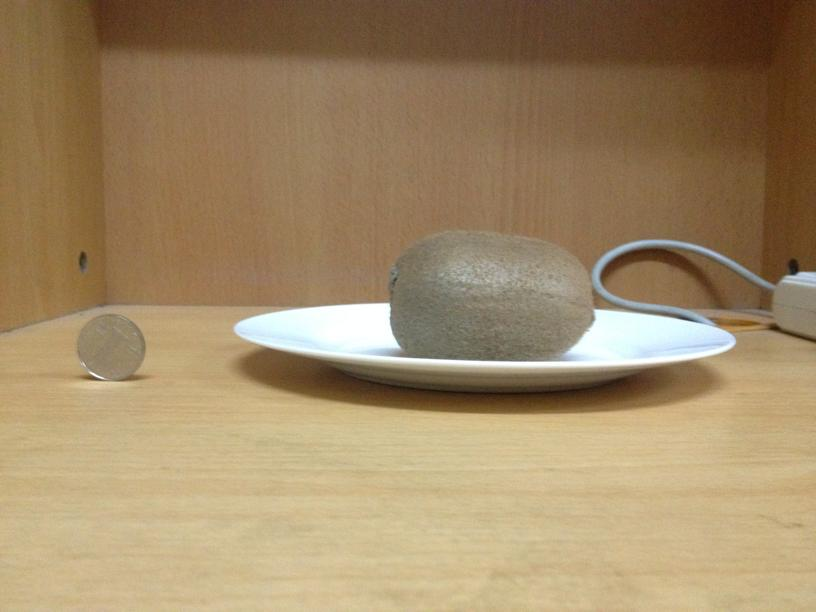coin: (73, 313, 146, 381)
qiwi: (381, 228, 592, 359)
